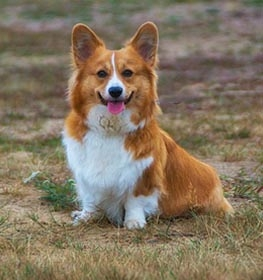corgi: (67, 22, 165, 231)
